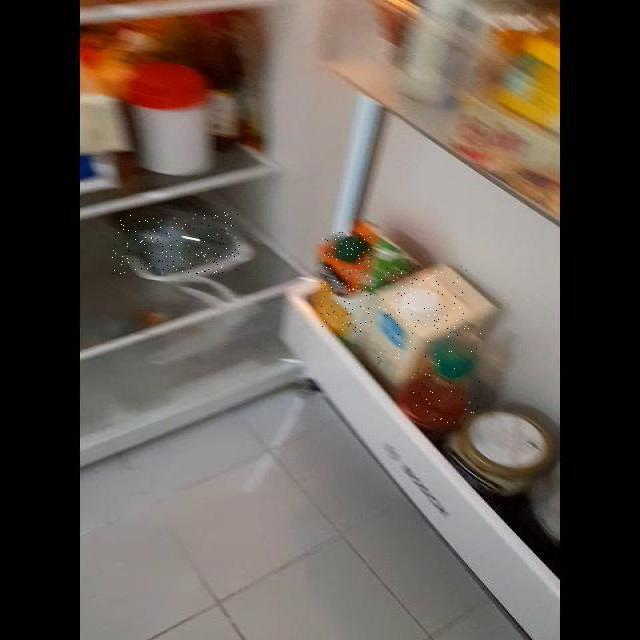Brocoli: (112, 212, 240, 274)
juice: (321, 232, 372, 332)
milk: (377, 266, 467, 364)
sauce: (412, 325, 484, 423)
